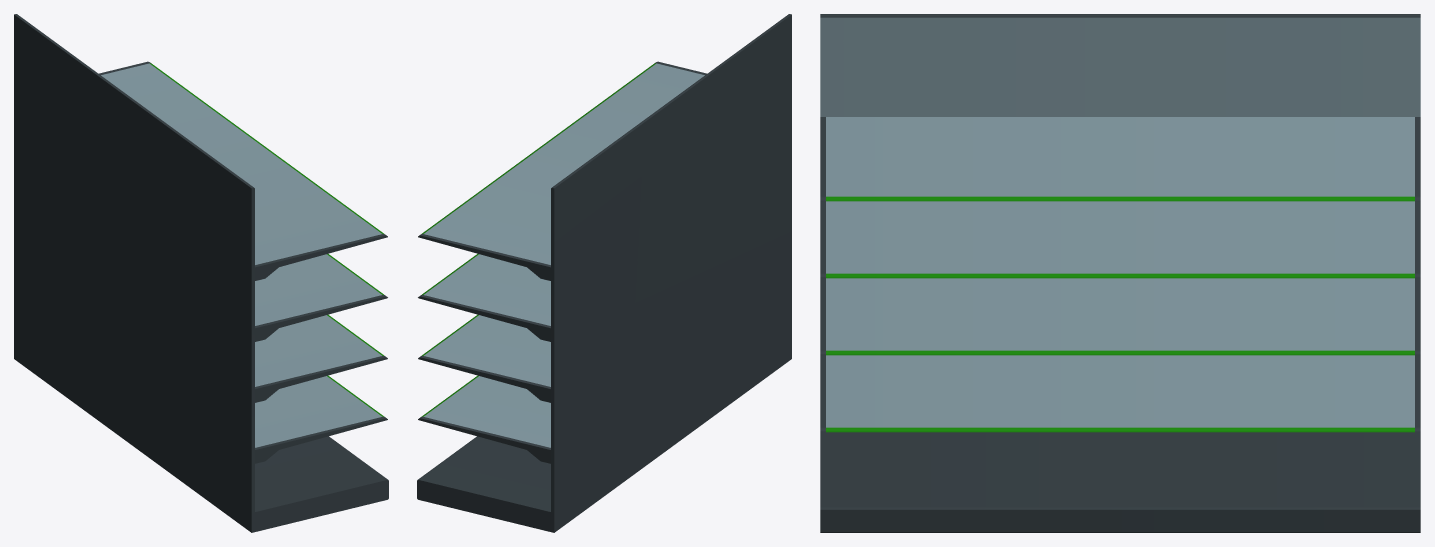
File: Shelf_4row_col.glb
The picture shows the model from 3 angles, left to right: view 1: azimuth 30°, elevation 25°; view 2: azimuth 150°, elevation 25°; view 3: azimuth 270°, elevation 25°; orthographic projection. The views are drawn at different scales.
Visible parts, largest first — view 1: Shelf_4row_col; view 2: Shelf_4row_col; view 3: Shelf_4row_col.
Part boxes in pixels (bbox=[...]): Shelf_4row_col: bbox=[14, 14, 388, 532]; Shelf_4row_col: bbox=[417, 14, 791, 532]; Shelf_4row_col: bbox=[820, 14, 1420, 532].
Size of the model in its own units: 1 by 2.4 by 3.
Materials: 1 (1 with a texture image).
